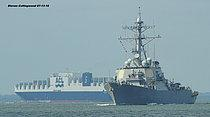MIL_Ship: (103, 14, 198, 105)
